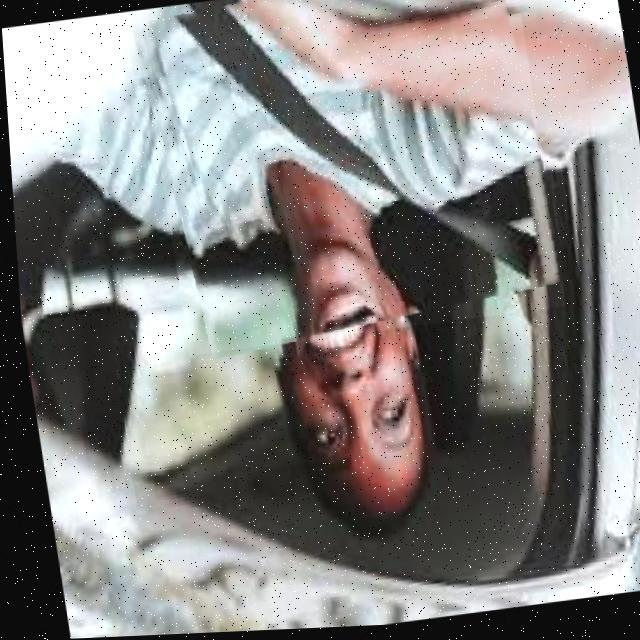seatbelt: (133, 0, 561, 357)
